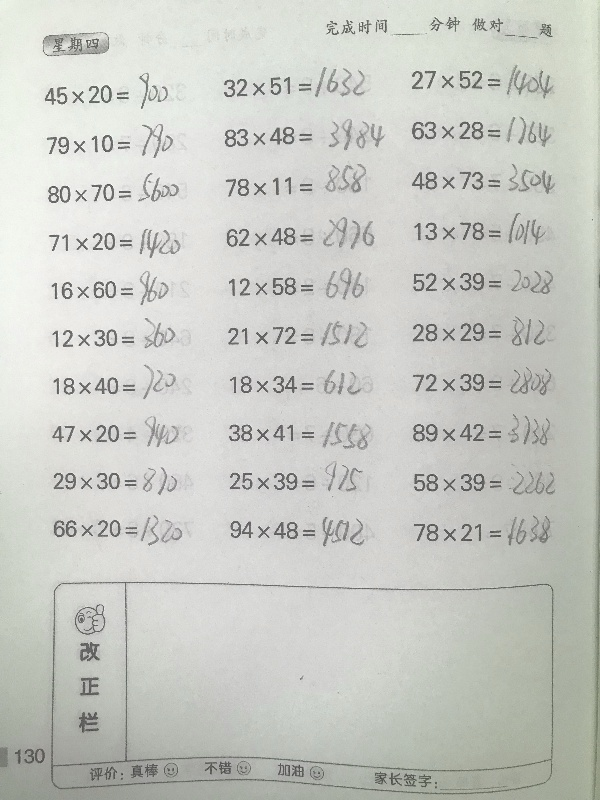equation: (406, 355, 564, 403), (403, 404, 561, 452), (401, 455, 559, 503), (403, 503, 561, 551), (405, 256, 562, 304), (399, 308, 556, 356), (41, 65, 174, 118), (222, 211, 379, 255), (220, 113, 387, 154), (213, 62, 380, 103), (44, 267, 180, 316), (46, 313, 182, 362), (227, 457, 367, 502), (407, 63, 559, 104), (225, 264, 368, 304), (407, 158, 559, 195), (410, 213, 562, 250), (44, 120, 177, 162), (49, 412, 190, 451), (50, 361, 180, 403), (222, 161, 369, 198), (226, 513, 369, 551), (408, 111, 556, 147), (50, 511, 186, 550), (224, 315, 371, 350), (225, 416, 374, 450), (44, 170, 182, 206), (49, 225, 187, 261), (226, 364, 373, 397), (50, 464, 181, 499)
